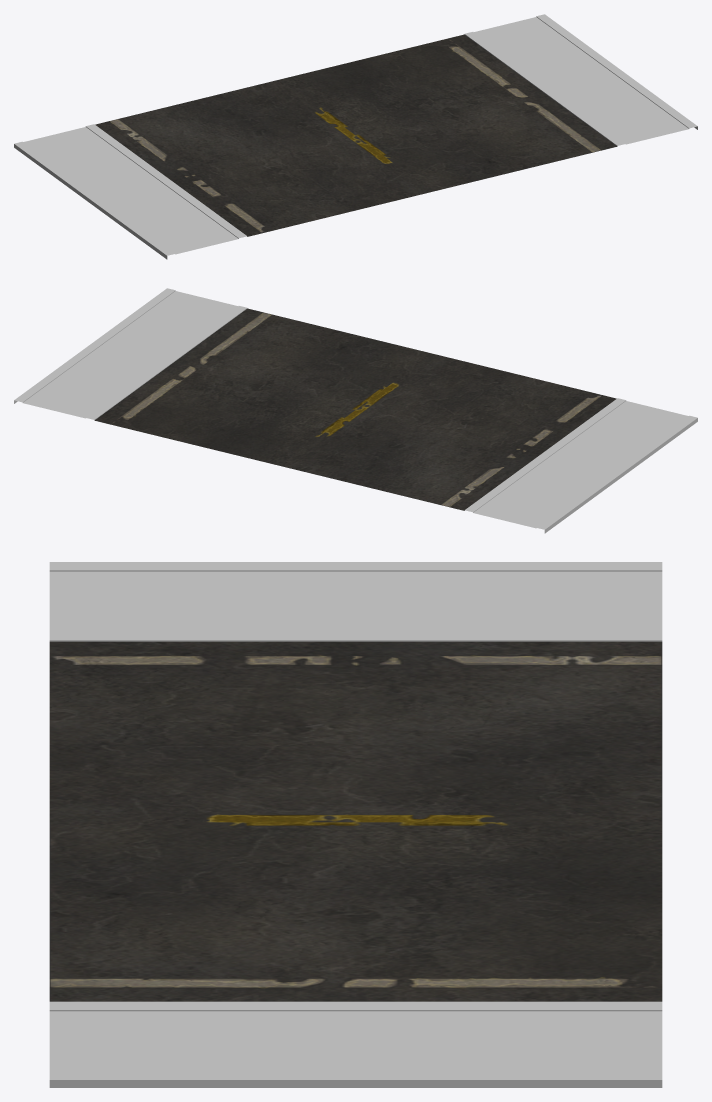
File: Road_Streight_B.fbx
3 renders of one model, top to bottom at view 1: azimuth 30°, elevation 25°; view 2: azimuth 150°, elevation 25°; view 3: azimuth 270°, elevation 25°, orthographic. The views are drawn at different scales.
Visible parts, largest first — view 1: Road_Streight_B; view 2: Road_Streight_B; view 3: Road_Streight_B.
Part boxes in pixels (left/top/right/bottom): Road_Streight_B: left=14, top=14, right=697, bottom=259; Road_Streight_B: left=14, top=288, right=697, bottom=533; Road_Streight_B: left=49, top=562, right=662, bottom=1087.
Bounding box in the file's own units: 1500 × 10.58 × 750.
